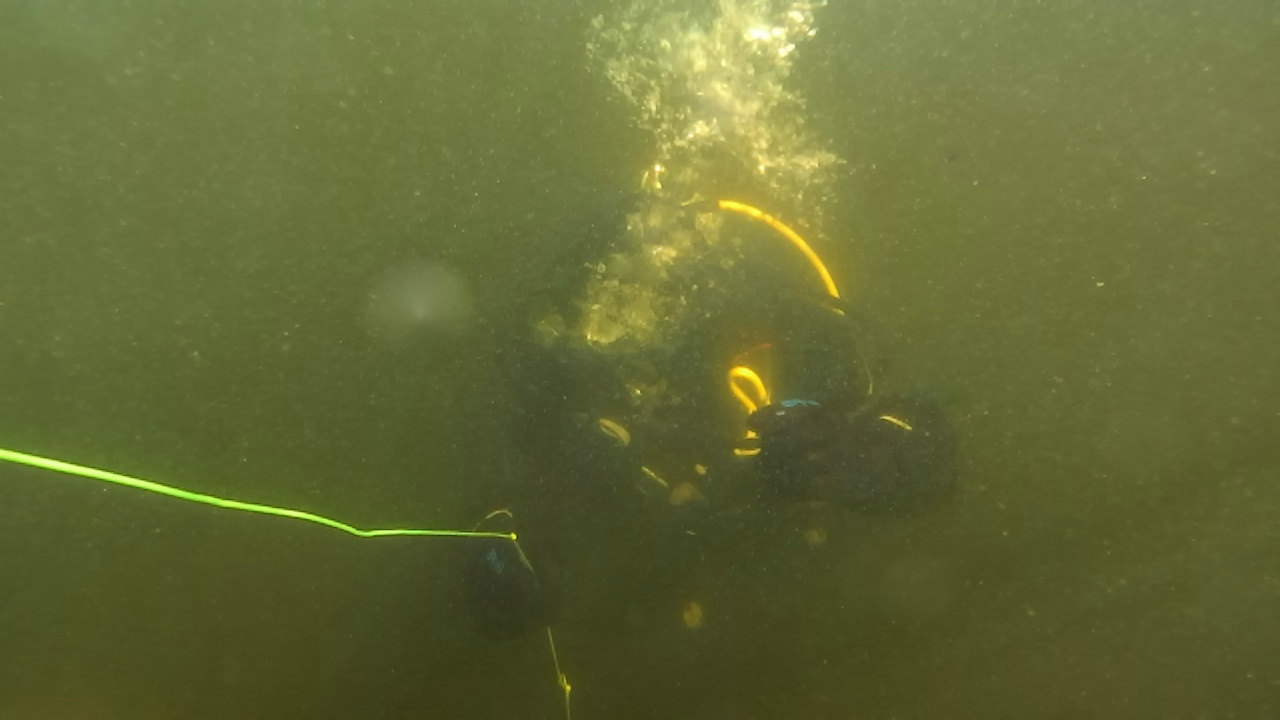Diver: (436, 166, 988, 686)
Hand: (430, 498, 590, 656), (720, 380, 880, 530)
